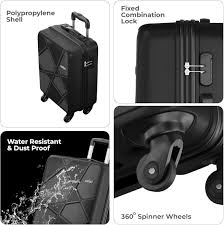suitcase: (113, 106, 222, 206), (129, 19, 224, 104), (34, 12, 103, 121), (31, 136, 109, 225)
